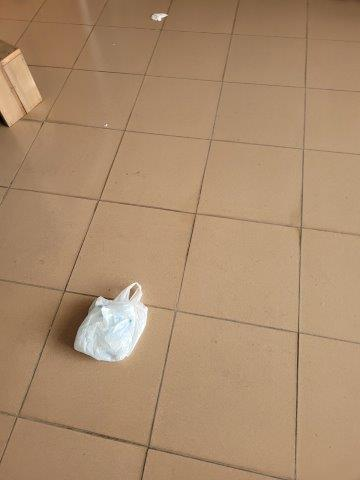plastik: (75, 281, 149, 361)
